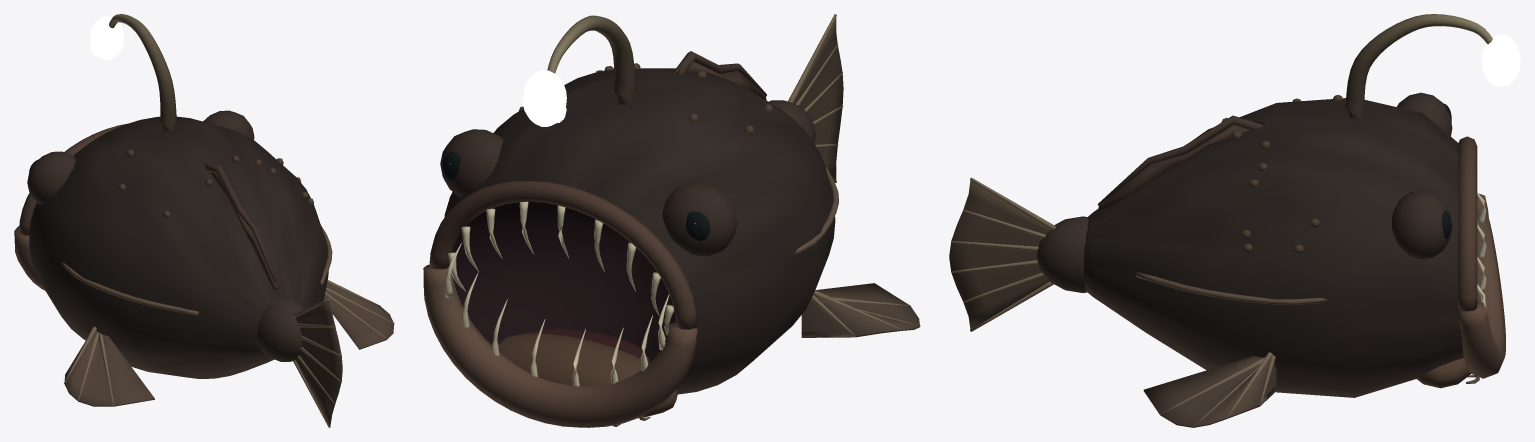
Rendered from rape-abisal.glb.
The picture shows the model from 3 angles, left to right: view 1: azimuth 30°, elevation 25°; view 2: azimuth 150°, elevation 25°; view 3: azimuth 270°, elevation 25°; orthographic projection. The views are drawn at different scales.
Parts seen in each view (by area): view 1: Cuerpo ojos dientes superiores, Cola caudal corta, Pectoral -1, Pectoral 1, Cana illicium, Senuelo esca, Mandibula inferior dientes y papilas; view 2: Cuerpo ojos dientes superiores, Mandibula inferior dientes y papilas, Pectoral -1, Cola caudal corta, Cana illicium, Senuelo esca; view 3: Cuerpo ojos dientes superiores, Cola caudal corta, Pectoral 1, Mandibula inferior dientes y papilas, Cana illicium, Senuelo esca.
Part boxes in pixels (x1,y1,x2,y2): Cuerpo ojos dientes superiores: [19, 110, 332, 378]; Cola caudal corta: [256, 298, 342, 427]; Pectoral -1: [64, 326, 154, 406]; Pectoral 1: [323, 280, 394, 349]; Cana illicium: [109, 14, 176, 131]; Senuelo esca: [90, 16, 123, 59]; Mandibula inferior dientes y papilas: [14, 226, 44, 290]; Cuerpo ojos dientes superiores: [429, 51, 838, 394]; Mandibula inferior dientes y papilas: [423, 243, 697, 427]; Pectoral -1: [801, 283, 920, 337]; Cola caudal corta: [769, 14, 843, 182]; Cana illicium: [547, 15, 635, 105]; Senuelo esca: [522, 70, 566, 126]; Cuerpo ojos dientes superiores: [1083, 92, 1477, 397]; Cola caudal corta: [949, 177, 1088, 331]; Pectoral 1: [1143, 352, 1276, 427]; Mandibula inferior dientes y papilas: [1416, 192, 1505, 388]; Cana illicium: [1345, 14, 1492, 118]; Senuelo esca: [1481, 34, 1520, 86].
Bounding box in the file's own units: 2.26 × 2.06 × 2.93.
